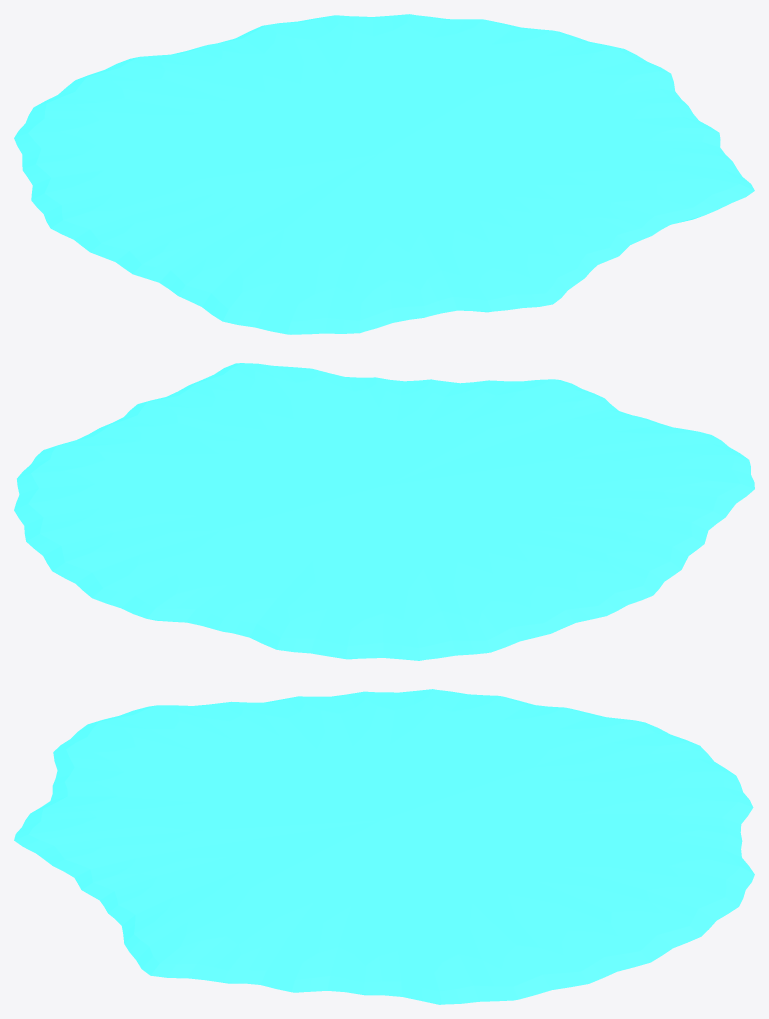
The model's file is Puddle.fbx.
3 views of the same model, one above another, from view 1: azimuth 30°, elevation 25°; view 2: azimuth 150°, elevation 25°; view 3: azimuth 270°, elevation 25° (orthographic). The views are drawn at different scales.
Parts seen in each view (by area): view 1: Cylinder; view 2: Cylinder; view 3: Cylinder.
Boxes of the visible parts, x1,y1,x2,y2 form: Cylinder: (14, 14, 754, 334); Cylinder: (14, 363, 754, 660); Cylinder: (14, 689, 754, 1004).
Size of the model in its own units: 242 by 15 by 241.
